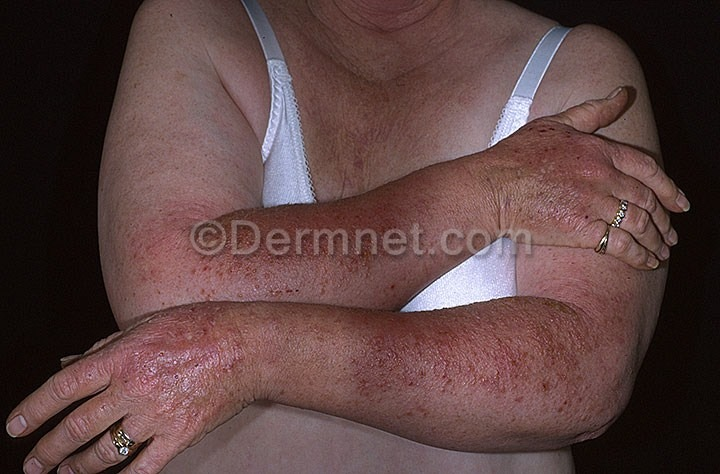Melasma: (333, 303, 635, 446), (140, 305, 248, 430), (180, 253, 392, 309), (515, 126, 610, 224), (116, 213, 192, 297)
